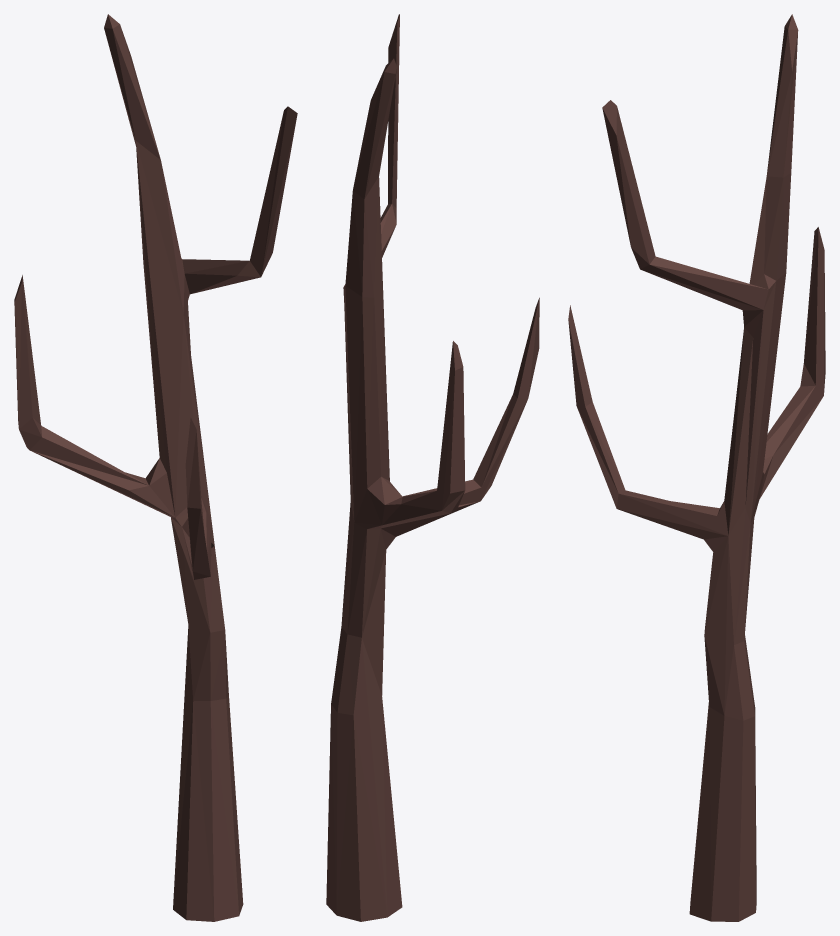
Rendered from CommonTree_Dead_3_lod.glb.
3 views of the same model, side by side, from view 1: azimuth 30°, elevation 25°; view 2: azimuth 150°, elevation 25°; view 3: azimuth 270°, elevation 25° (orthographic). The views are drawn at different scales.
Parts seen in each view (by area): view 1: CommonTree_Dead_3; view 2: CommonTree_Dead_3; view 3: CommonTree_Dead_3.
Part boxes in pixels (box(x1,y1,x2,y2)): CommonTree_Dead_3: box(14, 14, 297, 921); CommonTree_Dead_3: box(326, 14, 539, 921); CommonTree_Dead_3: box(568, 14, 825, 921).
Size of the model in its own units: 0.6259 by 2.99 by 0.8086.
